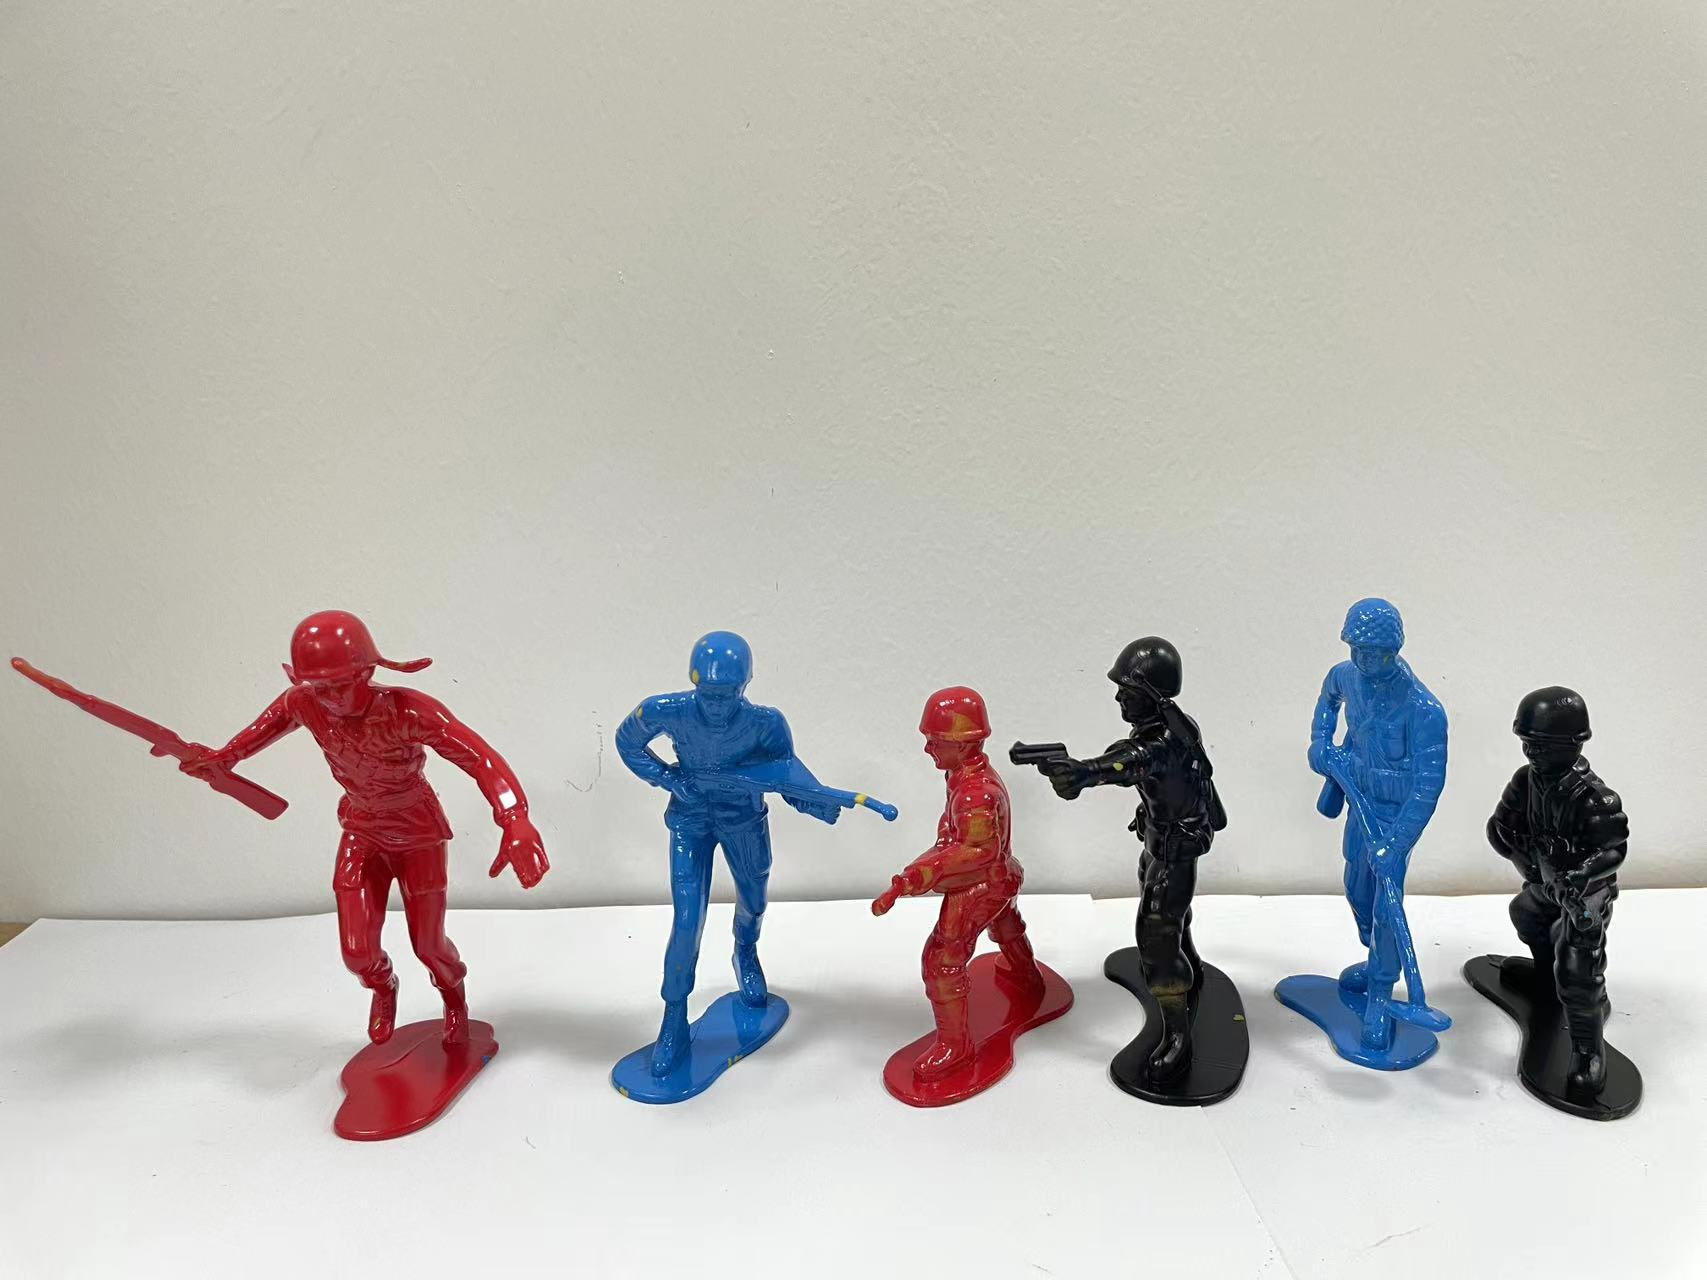black: (1032, 588, 1278, 1133), (1449, 651, 1704, 1133)
blue: (577, 614, 886, 1116), (1259, 553, 1470, 1119)
red: (4, 575, 571, 1150), (849, 653, 1065, 1137)
